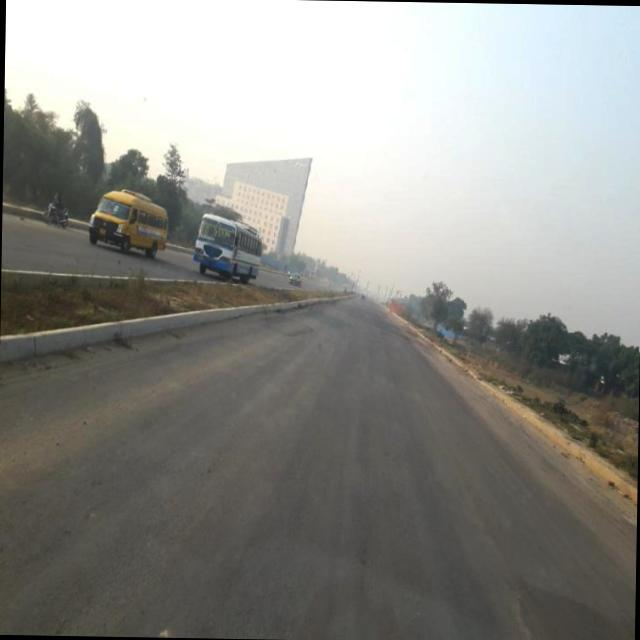crack: (316, 452, 400, 636)
